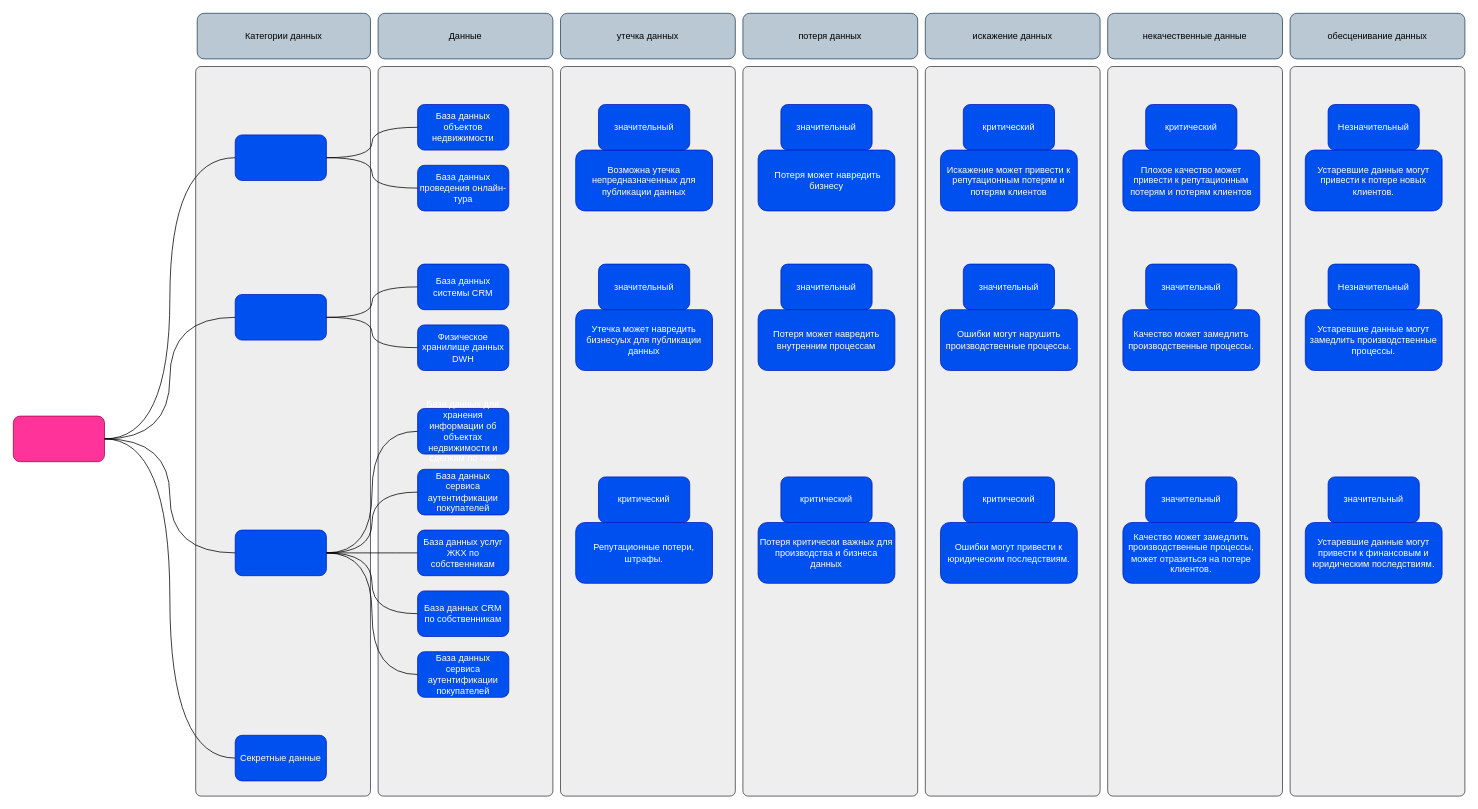
Some shapes in this 1478 by 809 pixel diagram are drawn without their labels. The centre of each missing label's shape, as x and y in pixels:
Безопасность: (x=58, y=438)
Внутренние данные: (x=280, y=317)
Конфиденциальные данные: (x=280, y=552)
Публичные данные: (x=280, y=157)
